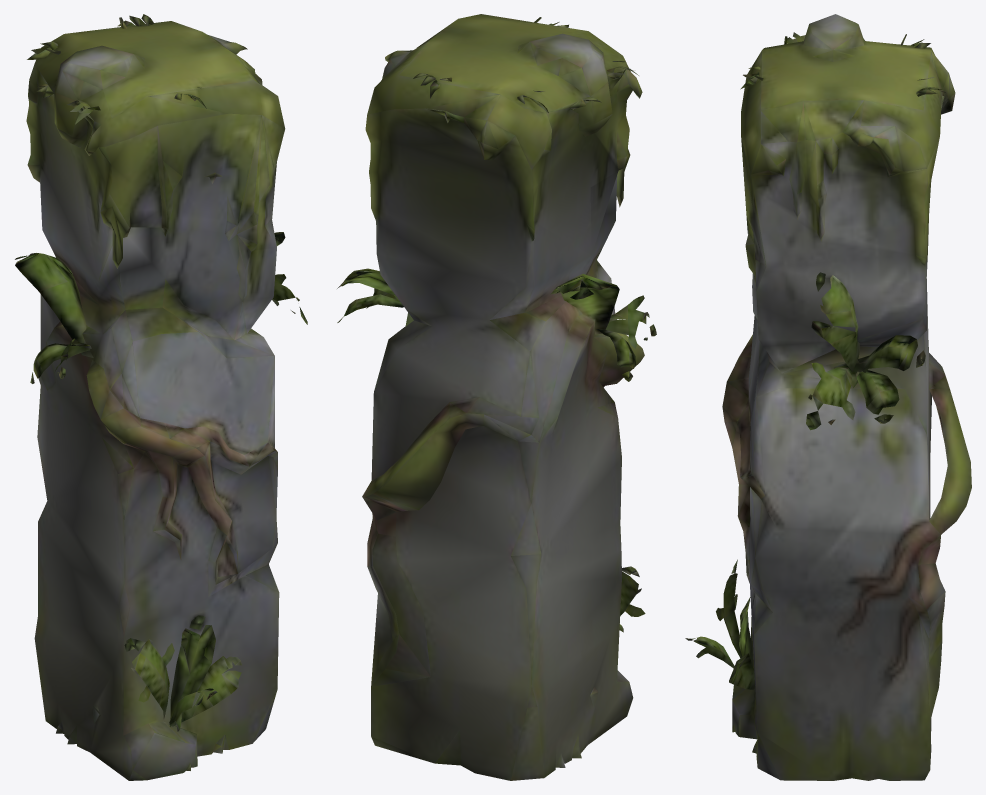
File: wallstone.glb
3 views of the same model, side by side, from view 1: azimuth 30°, elevation 25°; view 2: azimuth 150°, elevation 25°; view 3: azimuth 270°, elevation 25° (orthographic). The views are drawn at different scales.
Visible parts, largest first — view 1: wallstone; view 2: wallstone; view 3: wallstone.
Boxes of the visible parts, x1=… form: wallstone: x1=15, y1=14, x2=307, y2=780; wallstone: x1=337, y1=14, x2=656, y2=780; wallstone: x1=685, y1=14, x2=971, y2=780.
Size of the model in its own units: 1 by 2.5 by 0.95.
1 material, 1 textured.
